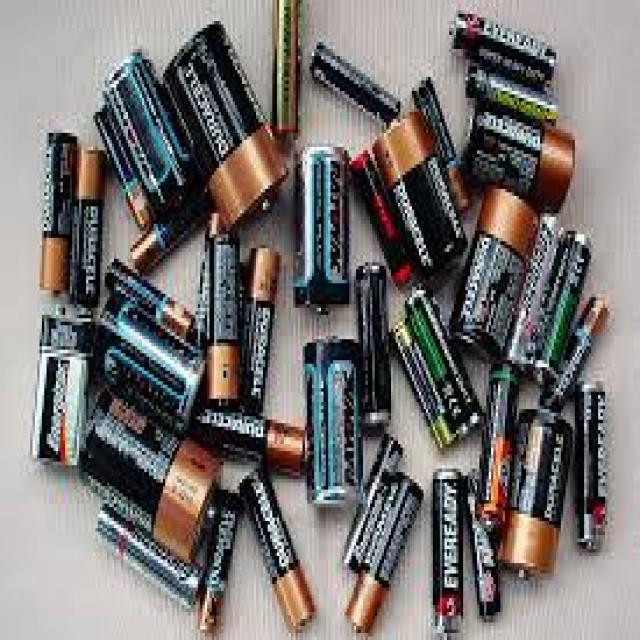battery: (162, 18, 290, 228), (76, 382, 220, 566), (102, 45, 214, 223), (367, 101, 472, 288), (450, 175, 538, 371), (233, 458, 314, 640), (456, 92, 578, 212), (343, 465, 424, 640), (497, 400, 570, 588), (301, 331, 370, 512), (402, 287, 482, 442), (290, 138, 350, 320), (28, 294, 88, 474), (444, 2, 564, 88), (306, 32, 404, 134), (239, 243, 284, 420), (106, 253, 195, 339), (575, 374, 615, 556), (426, 458, 466, 640), (204, 229, 243, 409), (38, 126, 78, 300), (350, 256, 390, 429), (72, 146, 107, 311), (266, 0, 306, 142)
